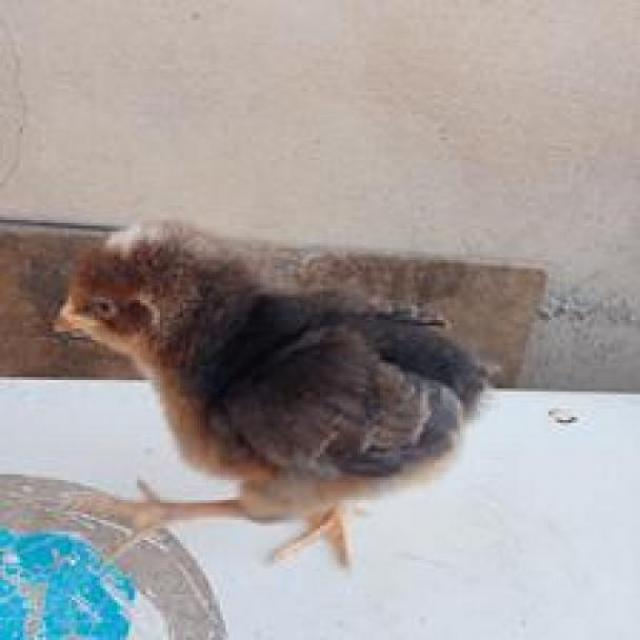Chicken: (46, 192, 500, 565)
